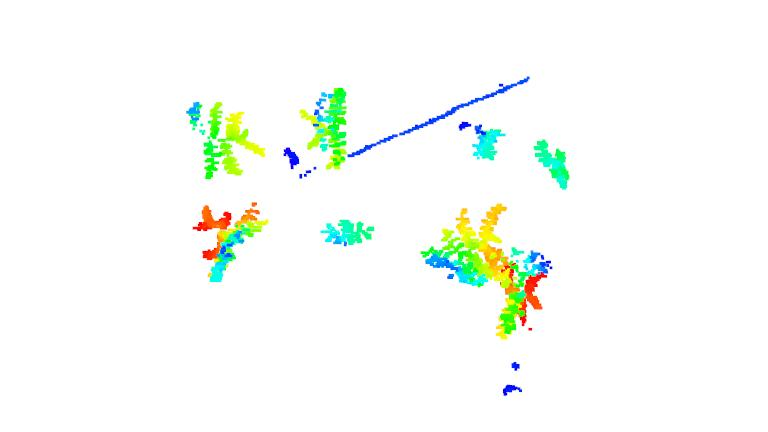chickpea: (420, 200, 510, 288), (189, 198, 270, 287), (185, 99, 271, 181), (485, 247, 551, 338), (299, 84, 352, 172), (531, 135, 573, 193), (318, 216, 377, 249), (460, 122, 508, 162)
